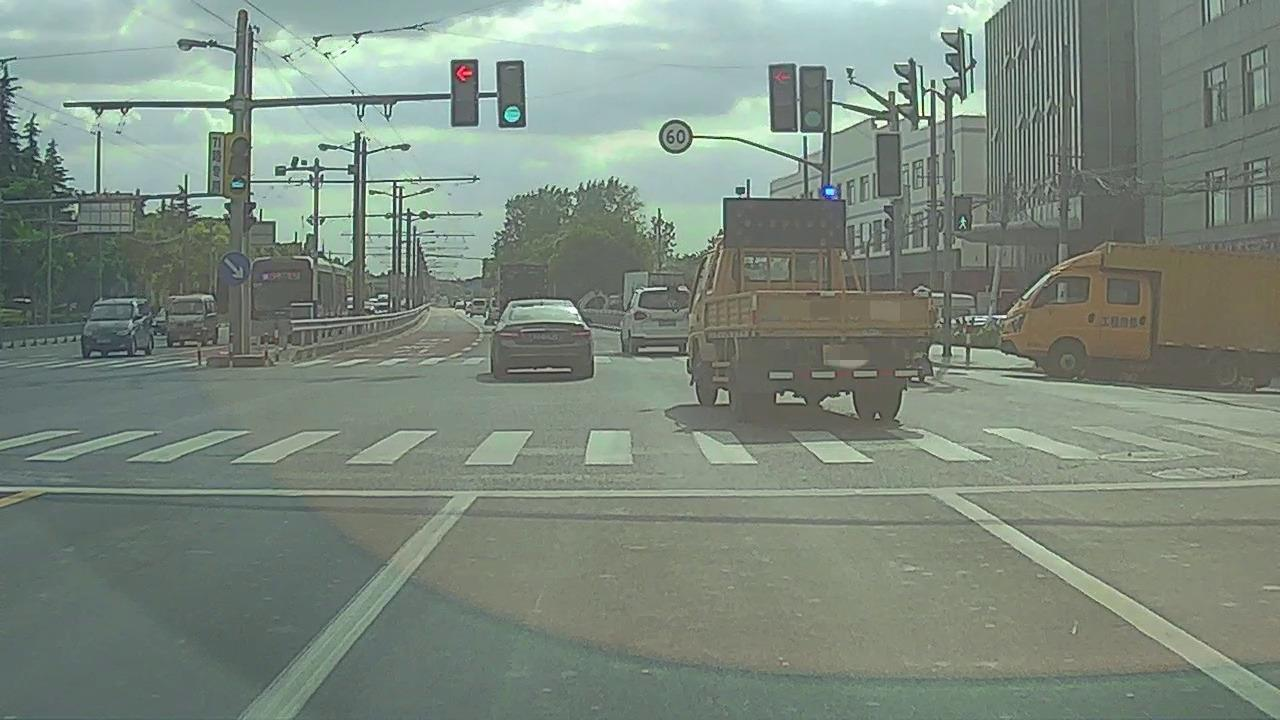traffic_light: (452, 59, 480, 126), (803, 67, 827, 134), (771, 64, 795, 130), (502, 63, 525, 128)
